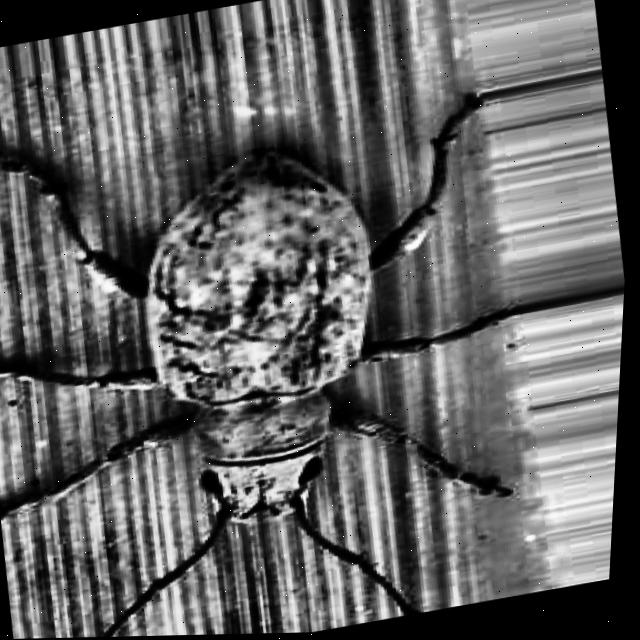Stink bug: (55, 73, 583, 639)
